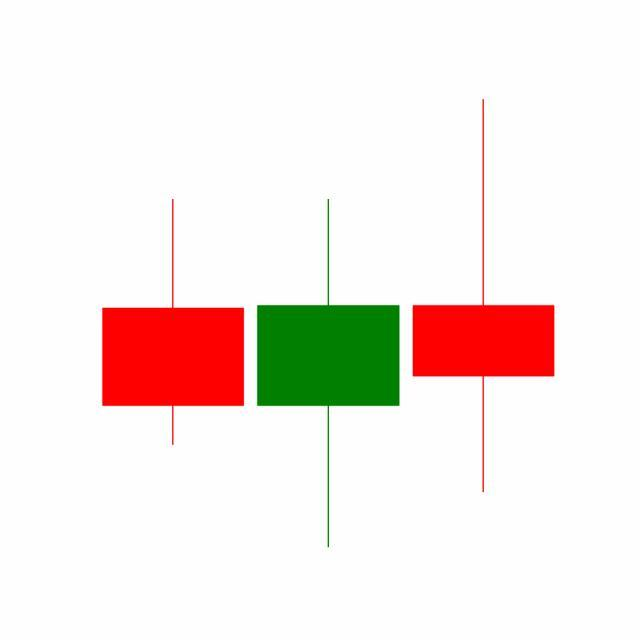Spinning Top: (406, 95, 562, 498)
